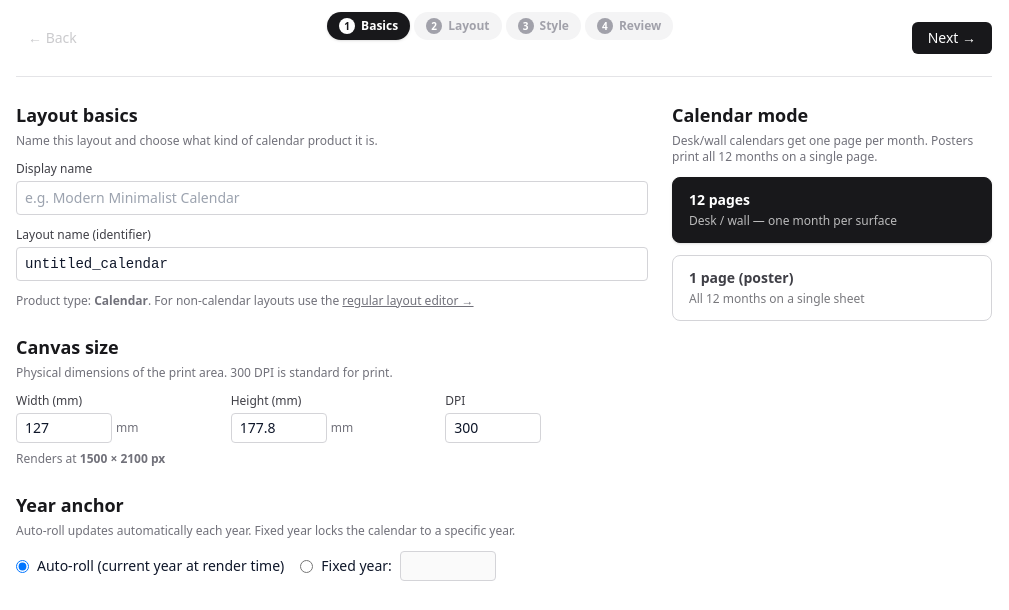
Test: CalendarLayoutEditor — initial render › hides Gen-Z palette picker when theme is NOT modern-genz
This screenshot has width=1009, height=610.
Step 1. Click the button "3 Style" → coordinates (543, 26), box 506,12 -> 581,40
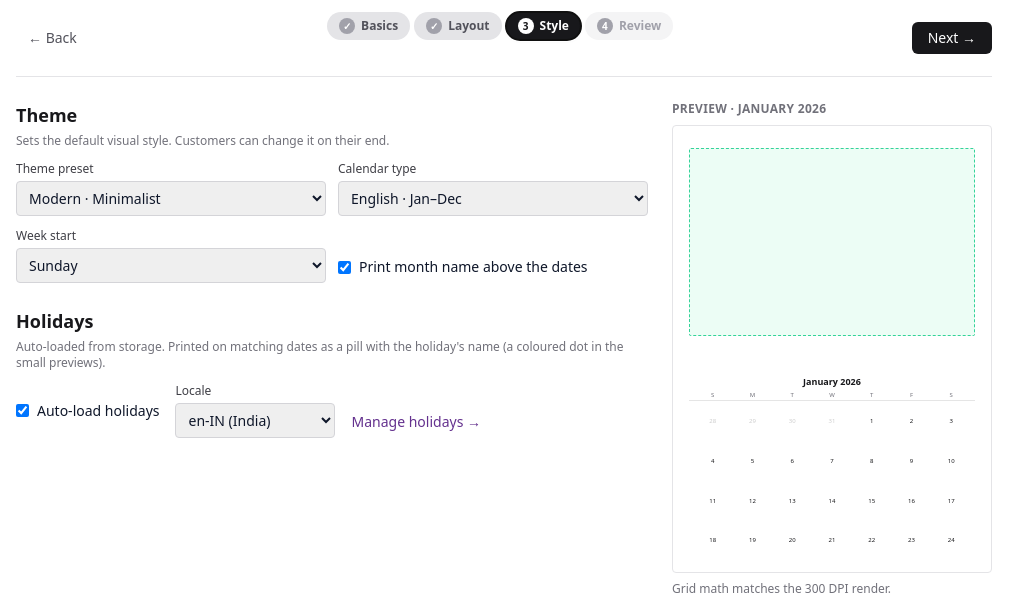
expect the dropdown with test id "style-theme" is shown: met, box 16,181 -> 326,216
